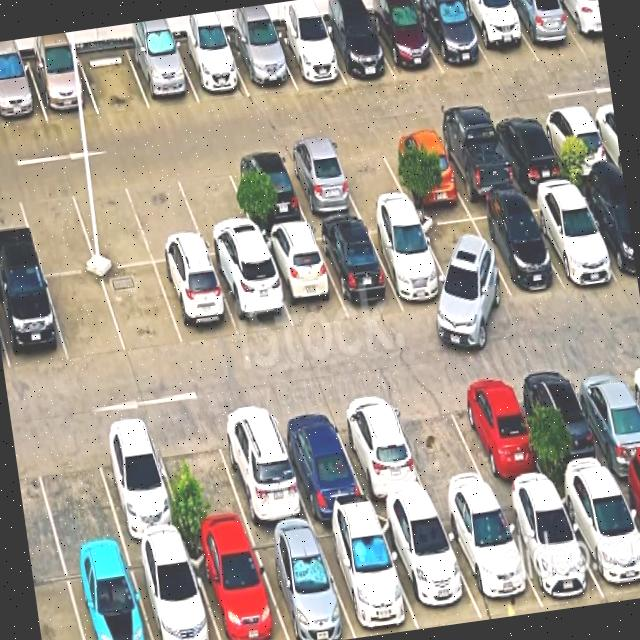empty: (386, 381, 494, 506), (151, 418, 250, 540), (30, 430, 124, 557), (416, 208, 512, 305), (174, 159, 260, 256), (68, 175, 153, 269), (125, 168, 207, 263), (16, 181, 97, 275), (101, 263, 184, 354), (45, 272, 126, 363), (328, 138, 410, 213), (77, 46, 150, 115)
occupied: (496, 489, 605, 608), (436, 497, 543, 618), (313, 515, 418, 638), (376, 508, 482, 628), (448, 372, 551, 495), (212, 403, 311, 530), (329, 392, 432, 510), (249, 526, 355, 640), (90, 423, 186, 547), (271, 401, 370, 521), (517, 363, 614, 485), (187, 533, 288, 640), (556, 477, 640, 603), (522, 186, 620, 287), (467, 199, 563, 296), (127, 541, 219, 640), (260, 228, 348, 331), (312, 220, 403, 319), (364, 215, 458, 309), (568, 358, 640, 476), (63, 549, 152, 640), (155, 257, 240, 346), (210, 251, 294, 337), (433, 121, 519, 201), (0, 273, 68, 372), (226, 151, 309, 232), (575, 180, 638, 283), (280, 144, 361, 222), (381, 129, 464, 203), (489, 111, 568, 187), (537, 105, 616, 178), (458, 0, 539, 71), (368, 6, 443, 81), (414, 2, 492, 74), (319, 16, 395, 85), (503, 0, 586, 62), (174, 37, 249, 104), (126, 41, 199, 109), (27, 53, 98, 122), (271, 26, 346, 90), (227, 32, 296, 96), (0, 60, 47, 128), (554, 0, 606, 55), (614, 472, 640, 535)
